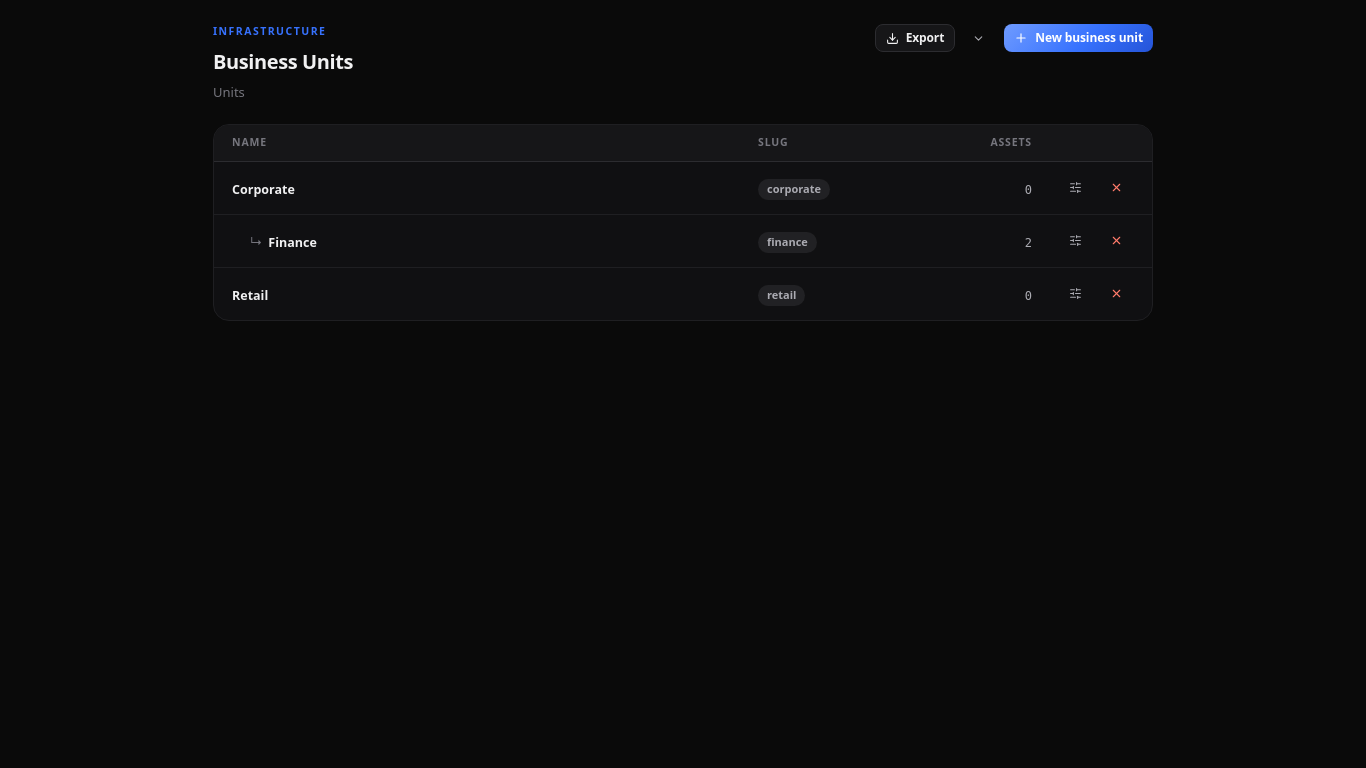
Scenario: edit: the drawer carries the unit's Changes and Journal panels
Click the button named "Edit Finance" at (1076, 241), box x1=1058 y1=227 x2=1093 y2=255
(page scrolled)
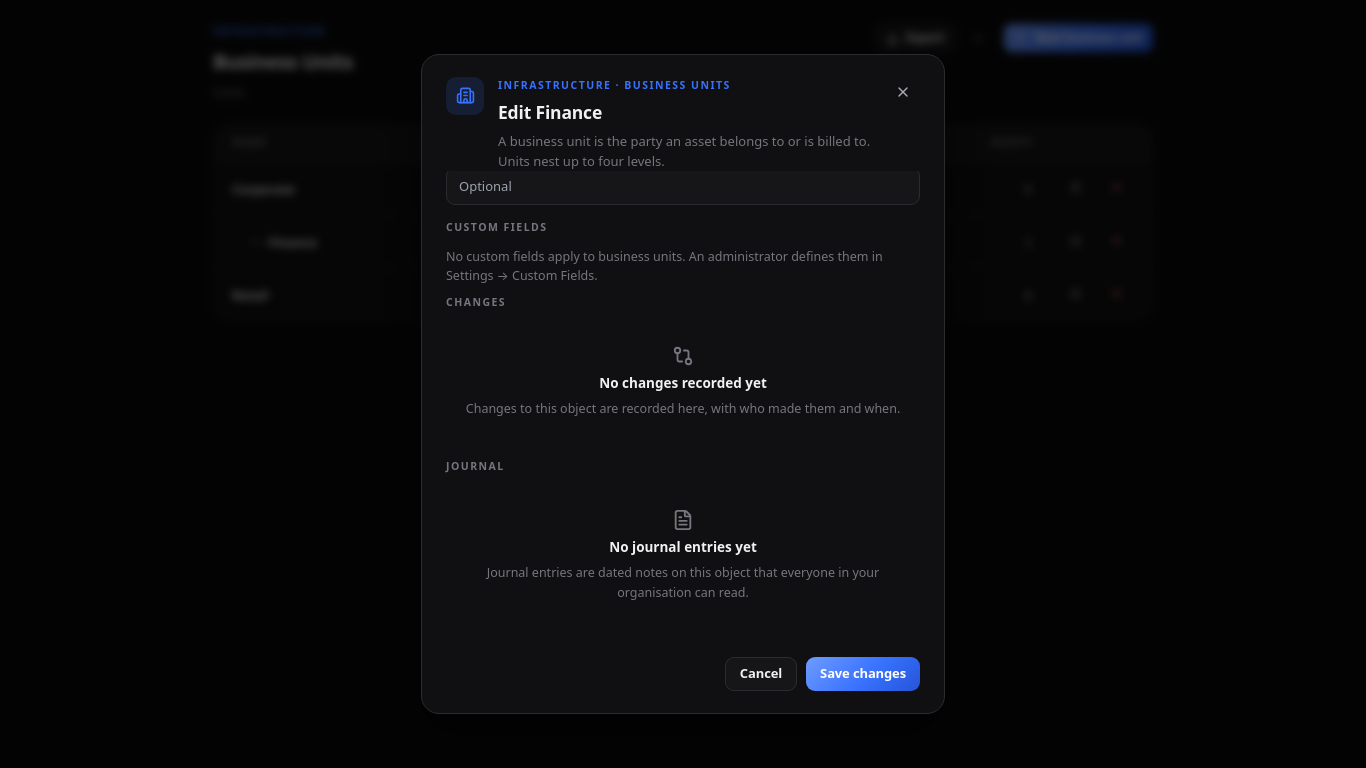
Result: the element with test id "bu-history" is shown at x1=446 y1=295 x2=920 y2=629
